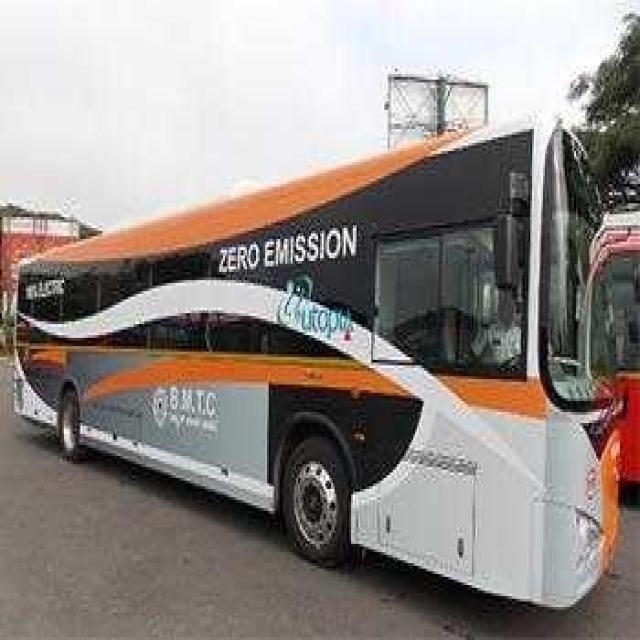Bus: (11, 105, 628, 627)
